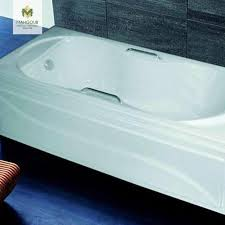bathub: (2, 26, 225, 222)
